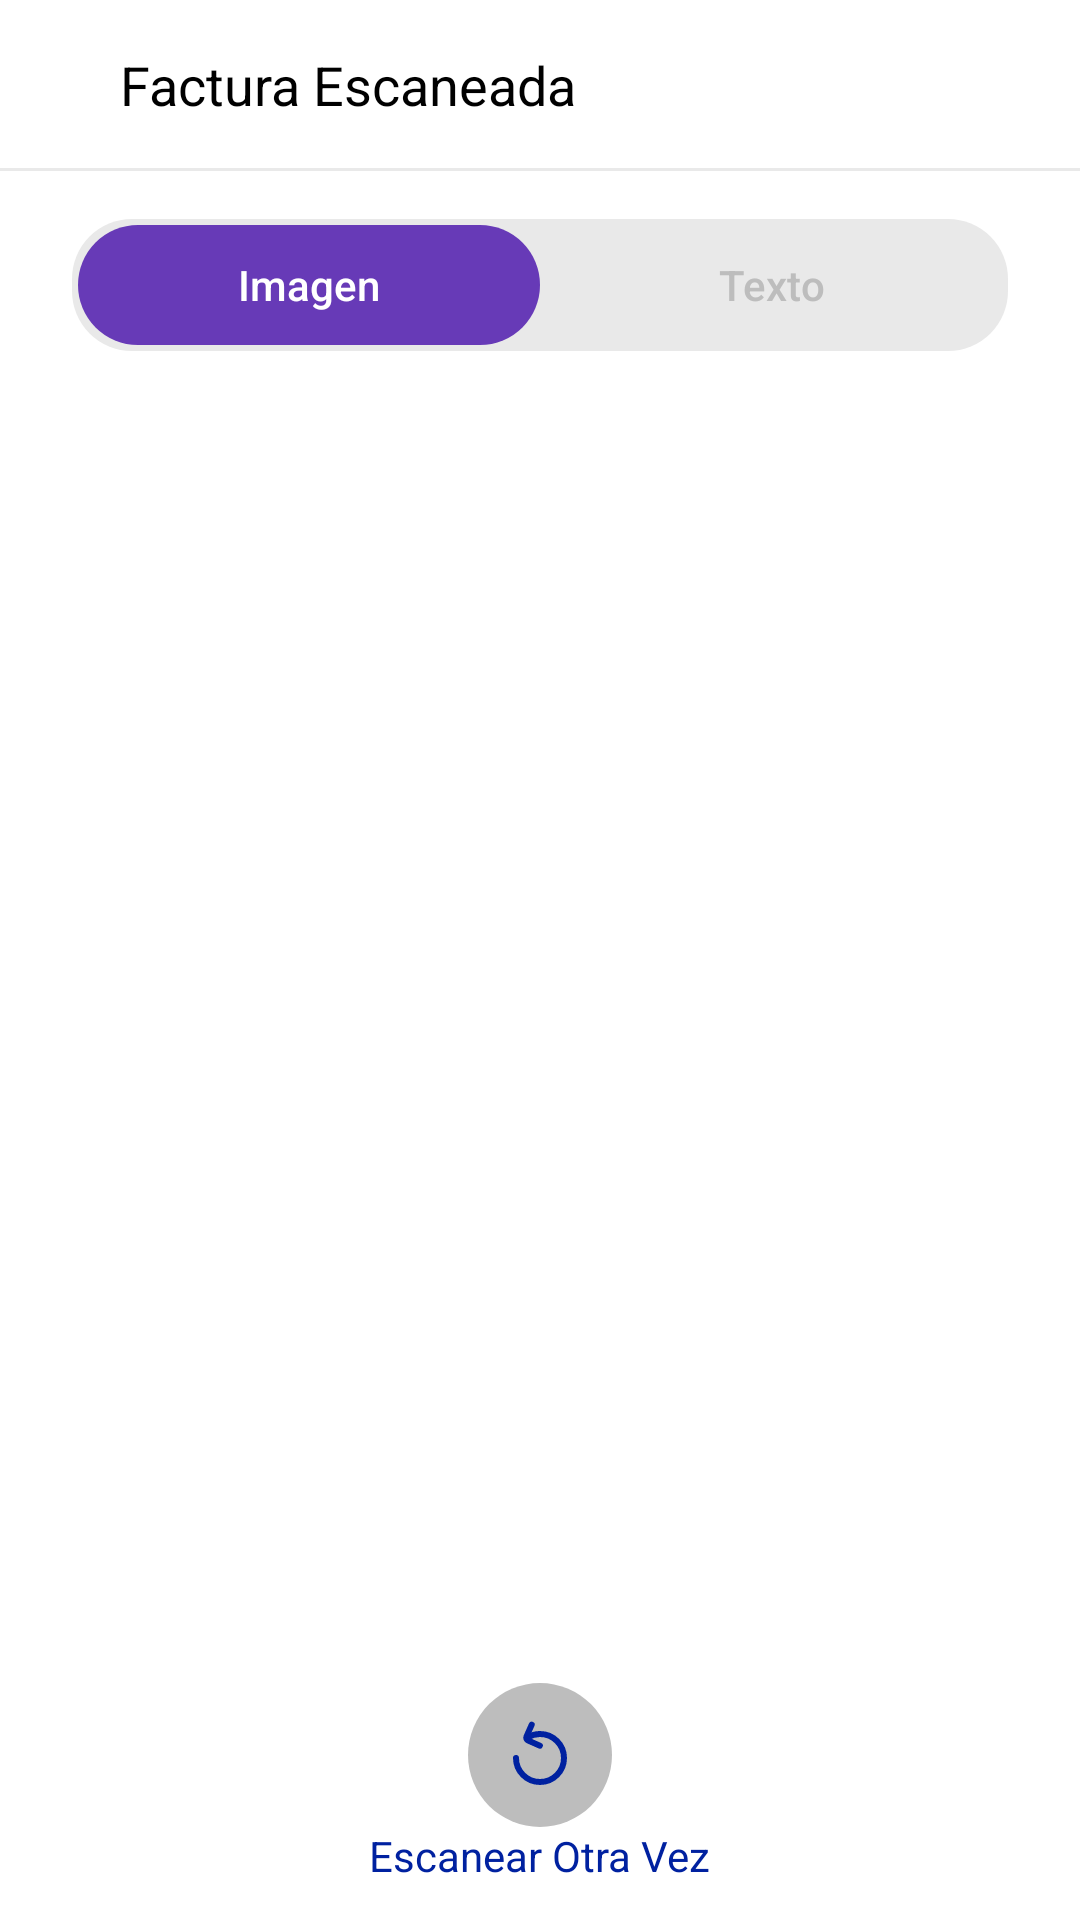

Named icons in this screenshot (1080x1920) and their bounding boxes, (x1, y1, x2, y2):
reload: (468, 1683, 612, 1827)
